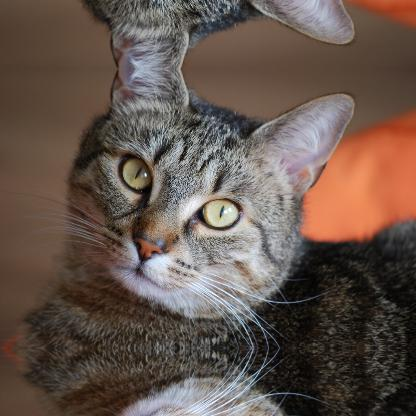Cat: (0, 68, 415, 347), (0, 0, 415, 69), (0, 348, 415, 415)
